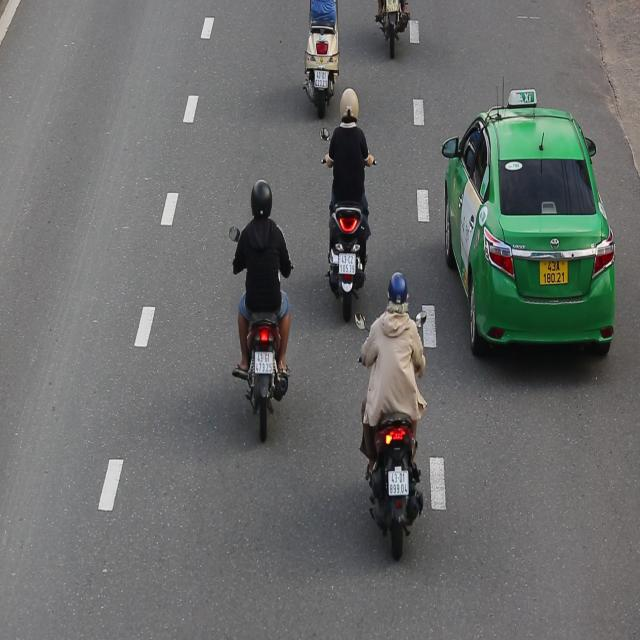motorbike: (356, 266, 432, 560), (229, 175, 298, 446), (320, 88, 379, 327)
